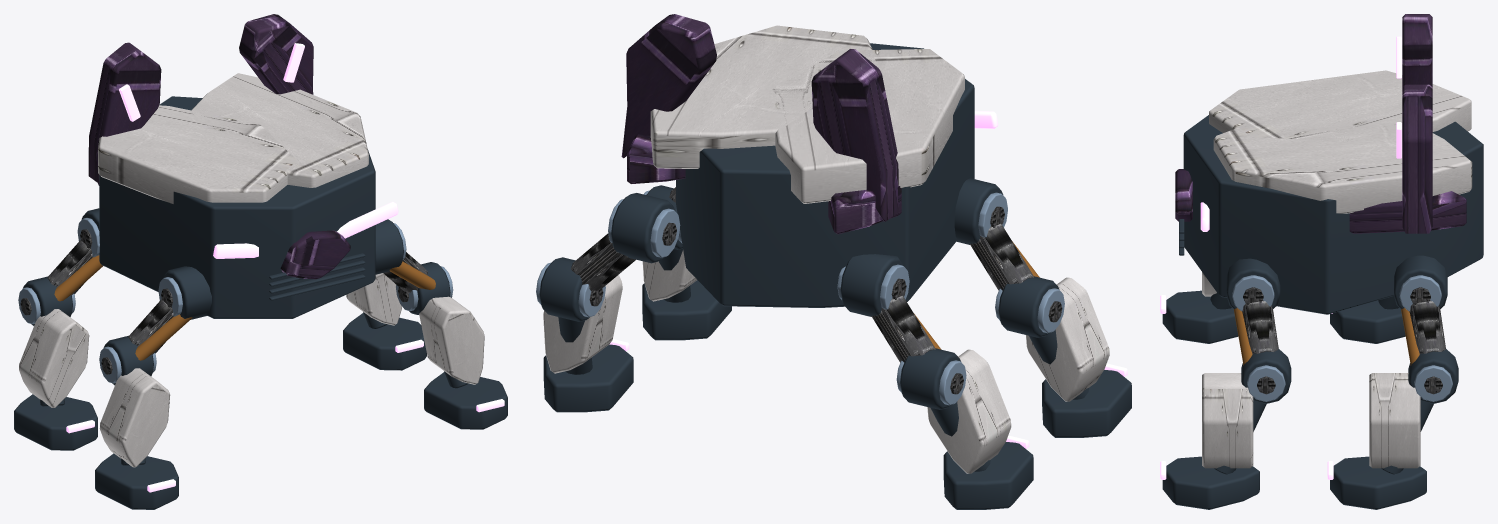
Rendered from quad.glb.
3 views of the same model, side by side, from view 1: azimuth 30°, elevation 25°; view 2: azimuth 150°, elevation 25°; view 3: azimuth 270°, elevation 25° (orthographic). The views are drawn at different scales.
Visible parts, largest first — view 1: Sloped crawler body, Layered beetle carapace, Swept cobalt shell, Servo housing.002, Servo housing.006, Swept crawler greave, Swept crawler greave.001, Servo housing, Swept crawler greave.003, Servo housing.004, Swept crawler greave.002, Crawler eye (+9 smaller); view 2: Sloped crawler body, Layered beetle carapace, Swept cobalt shell, Servo housing, Servo housing.004, Servo housing.002, Swept crawler greave, Swept crawler greave.001, Servo housing.006, Swept crawler greave.002, Hub, Hub.004 (+5 smaller); view 3: Sloped crawler body, Layered beetle carapace, Swept cobalt shell, Servo housing.004, Servo housing.006, Swept crawler greave.002, Swept crawler greave.003, Servo housing.002, Servo housing, Hub.008, Hub.012, Bearing ring.012 (+4 smaller).
Boxes of the visible parts, x1=… form: Sloped crawler body: x1=99, y1=96, x2=375, y2=318; Layered beetle carapace: x1=98, y1=73, x2=368, y2=203; Swept cobalt shell: x1=88, y1=14, x2=350, y2=279; Servo housing.002: x1=95, y1=266, x2=211, y2=509; Servo housing.006: x1=375, y1=219, x2=507, y2=429; Swept crawler greave: x1=19, y1=309, x2=89, y2=407; Swept crawler greave.001: x1=99, y1=368, x2=170, y2=467; Servo housing: x1=14, y1=208, x2=99, y2=450; Swept crawler greave.003: x1=419, y1=296, x2=484, y2=384; Servo housing.004: x1=343, y1=312, x2=426, y2=370; Swept crawler greave.002: x1=346, y1=273, x2=401, y2=325; Crawler eye: x1=213, y1=201, x2=398, y2=258; Sloped crawler body: x1=676, y1=43, x2=974, y2=307; Layered beetle carapace: x1=650, y1=25, x2=964, y2=203; Swept cobalt shell: x1=621, y1=14, x2=901, y2=234; Servo housing: x1=840, y1=254, x2=1033, y2=509; Servo housing.004: x1=539, y1=193, x2=675, y2=412; Servo housing.002: x1=954, y1=178, x2=1131, y2=437; Swept crawler greave: x1=927, y1=349, x2=1011, y2=473; Swept crawler greave.001: x1=1026, y1=277, x2=1109, y2=401; Servo housing.006: x1=642, y1=185, x2=731, y2=340; Swept crawler greave.002: x1=543, y1=274, x2=622, y2=373; Hub: x1=871, y1=278, x2=963, y2=394; Hub.004: x1=970, y1=206, x2=1062, y2=322; Sloped crawler body: x1=1179, y1=115, x2=1483, y2=314; Layered beetle carapace: x1=1209, y1=70, x2=1472, y2=213; Swept cobalt shell: x1=1175, y1=14, x2=1466, y2=233; Servo housing.004: x1=1330, y1=255, x2=1458, y2=509; Servo housing.006: x1=1162, y1=258, x2=1291, y2=509; Swept crawler greave.002: x1=1369, y1=373, x2=1420, y2=468; Swept crawler greave.003: x1=1202, y1=373, x2=1253, y2=468; Servo housing.002: x1=1162, y1=290, x2=1238, y2=343; Servo housing: x1=1330, y1=296, x2=1405, y2=343; Hub.008: x1=1409, y1=287, x2=1445, y2=394; Hub.012: x1=1242, y1=287, x2=1278, y2=394; Bearing ring.012: x1=1232, y1=275, x2=1285, y2=401.
Size of the model in its own units: 1.46 by 1.24 by 1.
8 materials, 3 textured.
